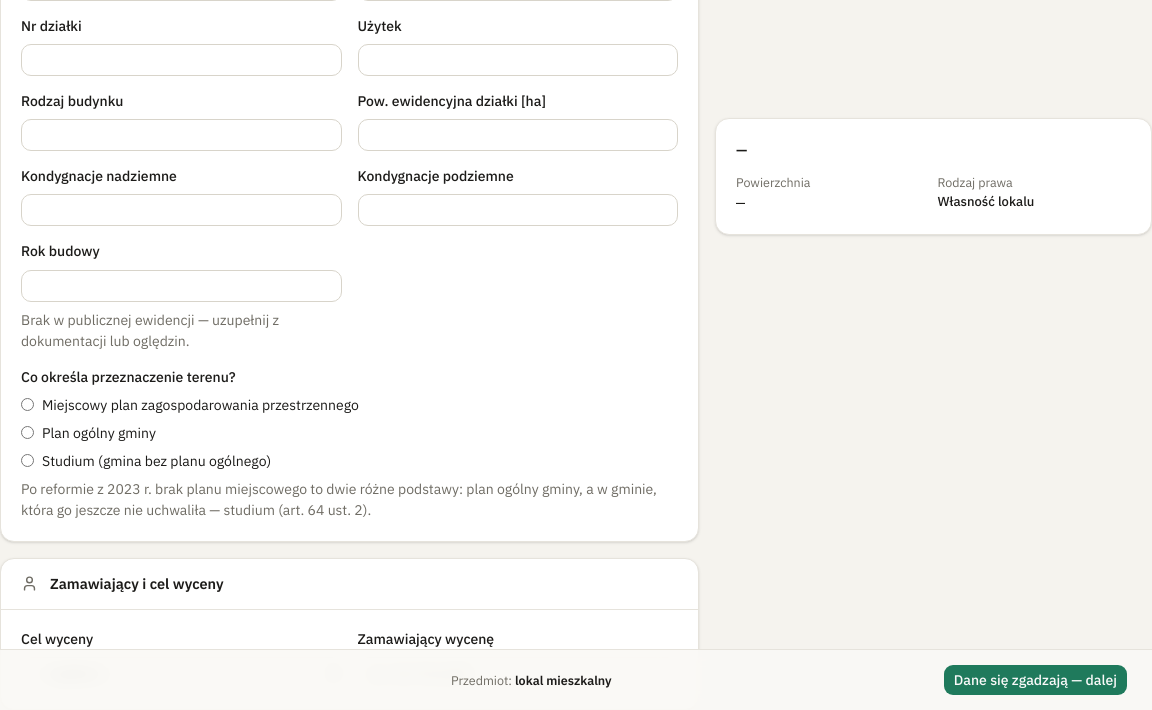
Test: SubjectForm — podstawa przeznaczenia terenu (M-10) › pola przeznaczenia pojawiają się dopiero po wyborze podstawy
The image size is (1152, 710).
(page scrolled)
Check: the field labelled "Symbol i opis" is not shown
Step 1. Click the radio button named "miejscowy plan zagospodarowania" → (28, 405), box [21,398,34,411]
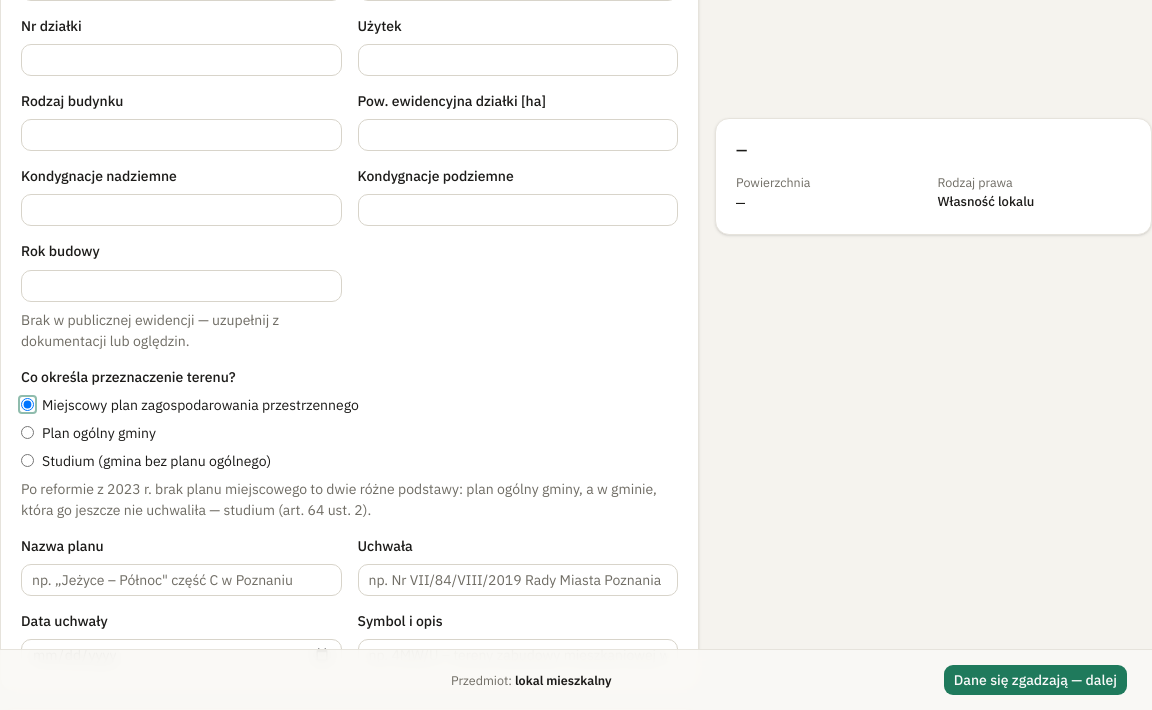
Check: the field labelled "Symbol i opis" is shown, box [358,639,678,671]
Check: the field labelled "Nazwa planu" is shown, box [21,564,342,596]
